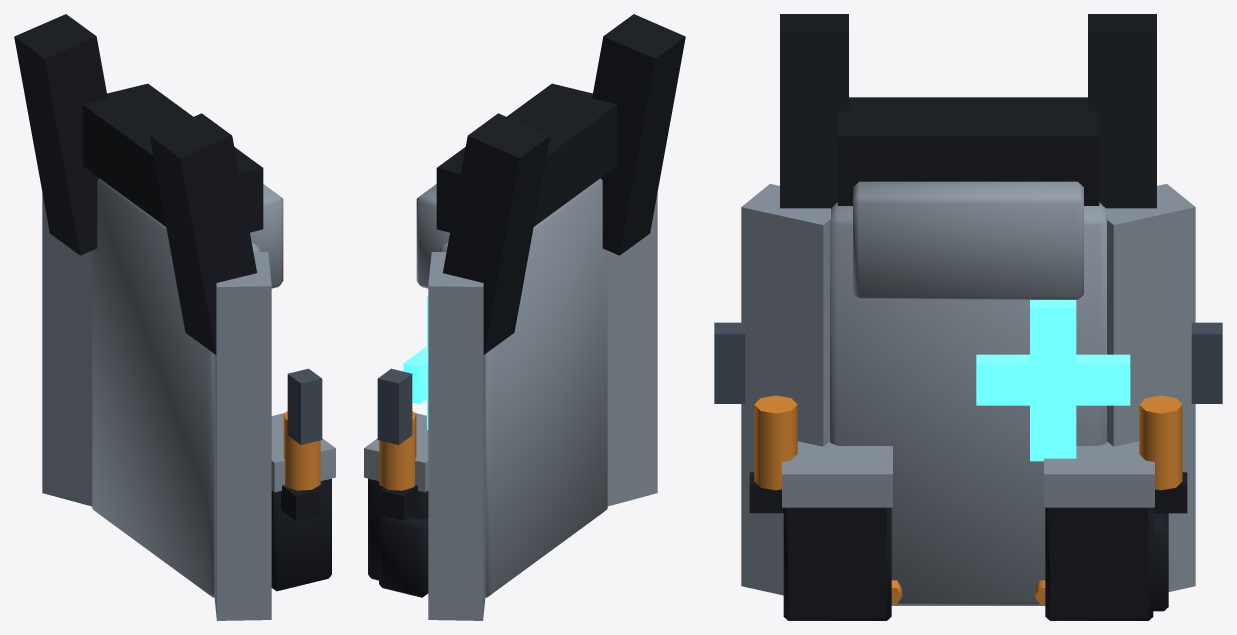
File: peto_medico.glb
3 renders of one model, left to right at view 1: azimuth 30°, elevation 25°; view 2: azimuth 150°, elevation 25°; view 3: azimuth 270°, elevation 25°, orthographic. The views are drawn at different scales.
Visible parts, largest first — view 1: peto_medico; view 2: peto_medico; view 3: peto_medico.
Boxes of the visible parts, x1,y1,x2,y2 form: peto_medico: (14,14,335,620); peto_medico: (364,14,685,620); peto_medico: (714,14,1222,620).
Size of the model in its own units: 0.1334 by 0.3927 by 0.33.
